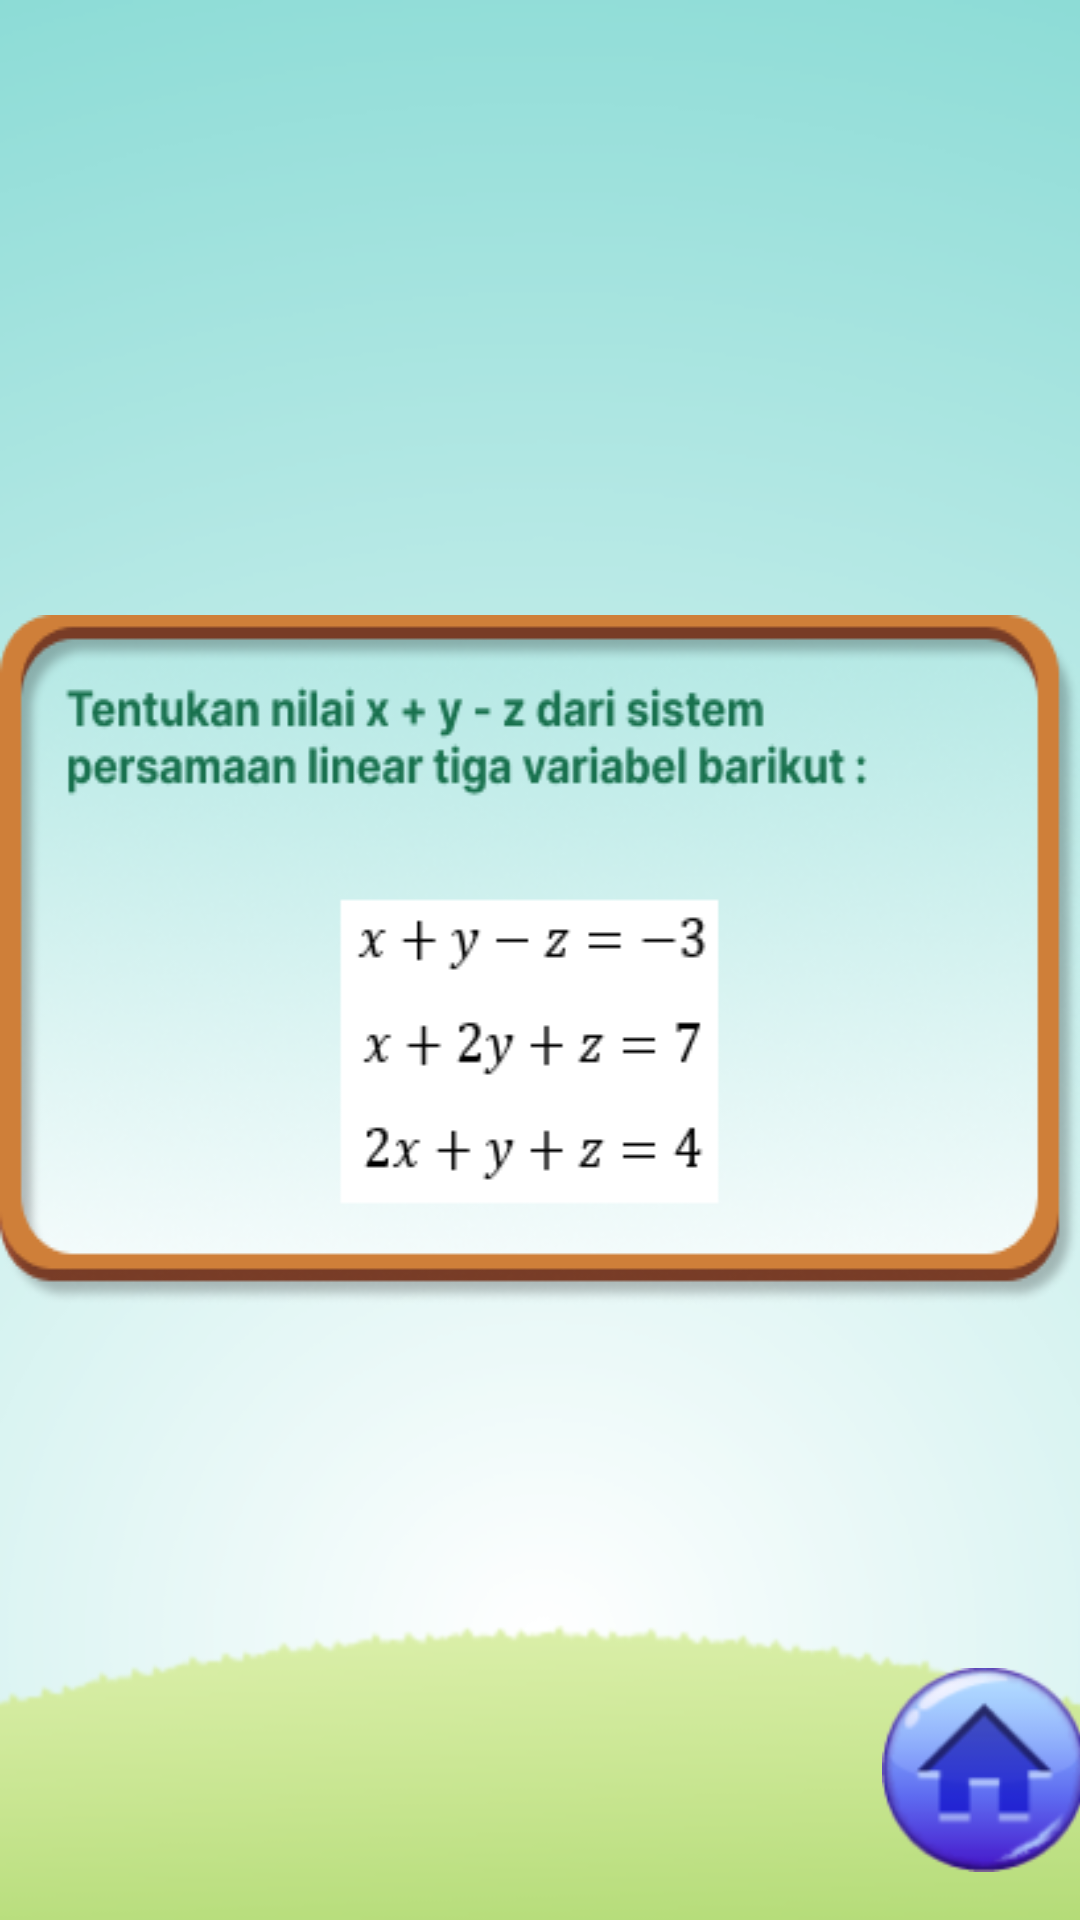

Named icons in this screenshot (1080w x 1920h) and their centers, (x=x, y=y):
Home: (x=981, y=1770)
